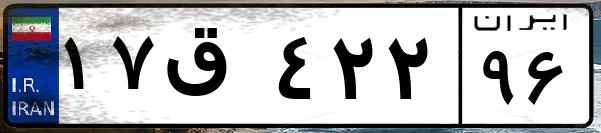1: (57, 26, 110, 100)
2: (385, 28, 445, 110), (330, 28, 385, 110)
4: (270, 28, 330, 110)
6: (525, 38, 570, 115)
7: (110, 28, 158, 98)
9: (475, 38, 525, 113)
ق: (158, 20, 270, 120)
